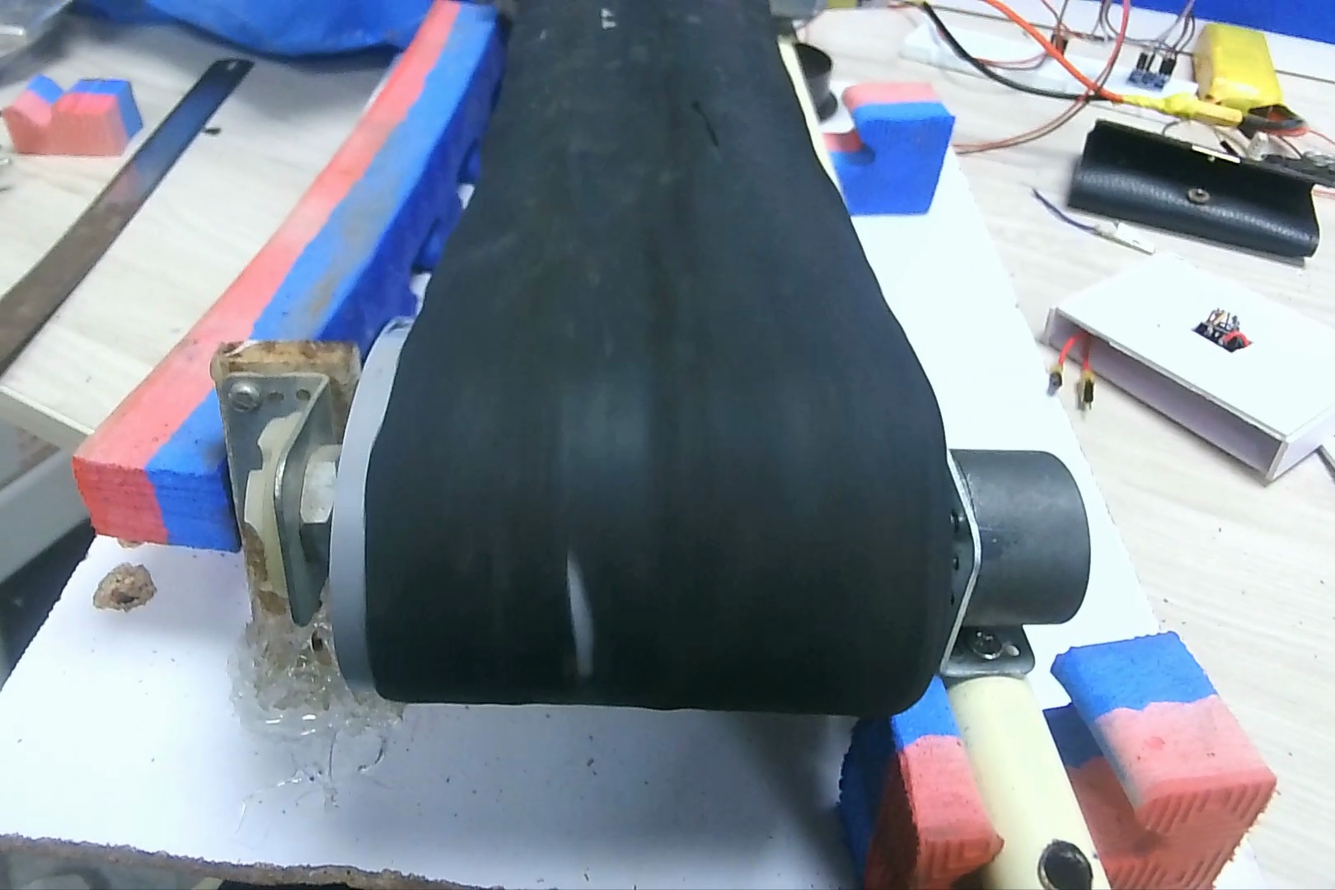hole: (413, 274, 429, 310)
tear: (550, 554, 605, 677), (1212, 209, 1294, 235), (952, 577, 975, 637)
